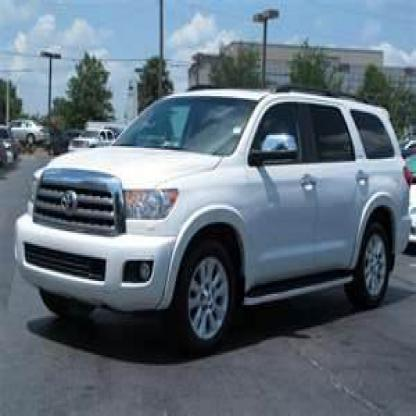Vehicle: (11, 89, 411, 359)
